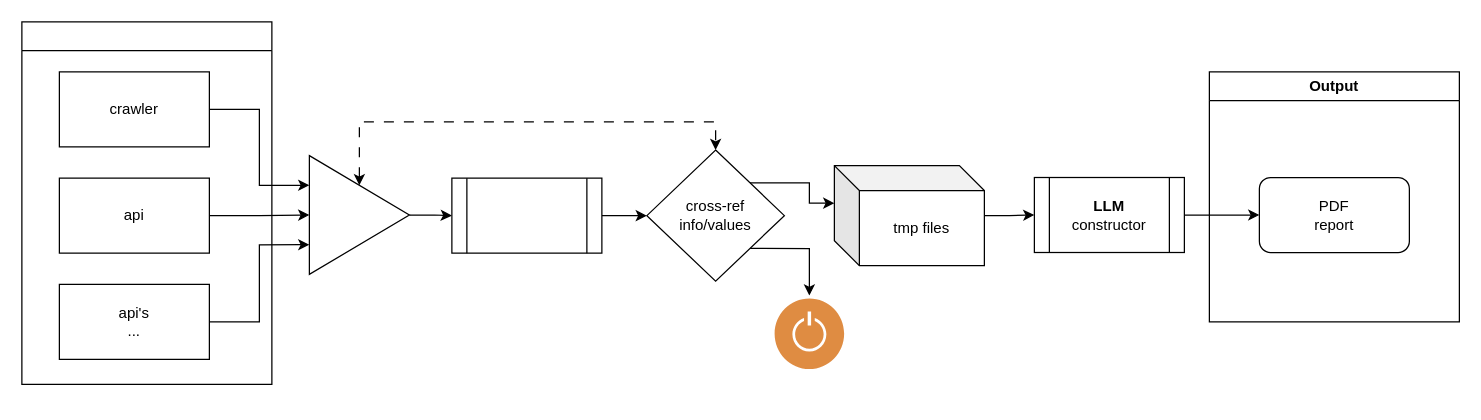
Some shapes in this 1481 by 420 pixel diagram are drawn without their labels. Each missing label, with the centre of its shape:
"abort" belongs at pixel 808 333.
"Collectors" belongs at pixel 146 202.
"filter/ reduce" belongs at pixel 358 214.
"LLM summarize" belongs at pixel 526 215.
